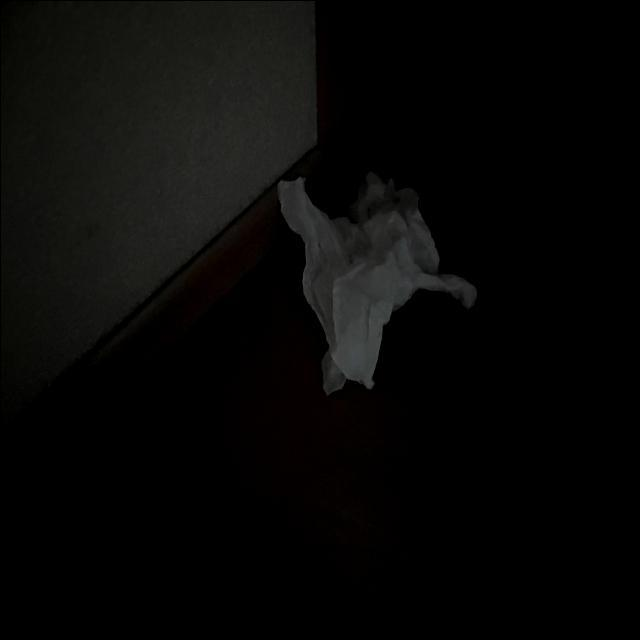Paper: (266, 162, 451, 378)
